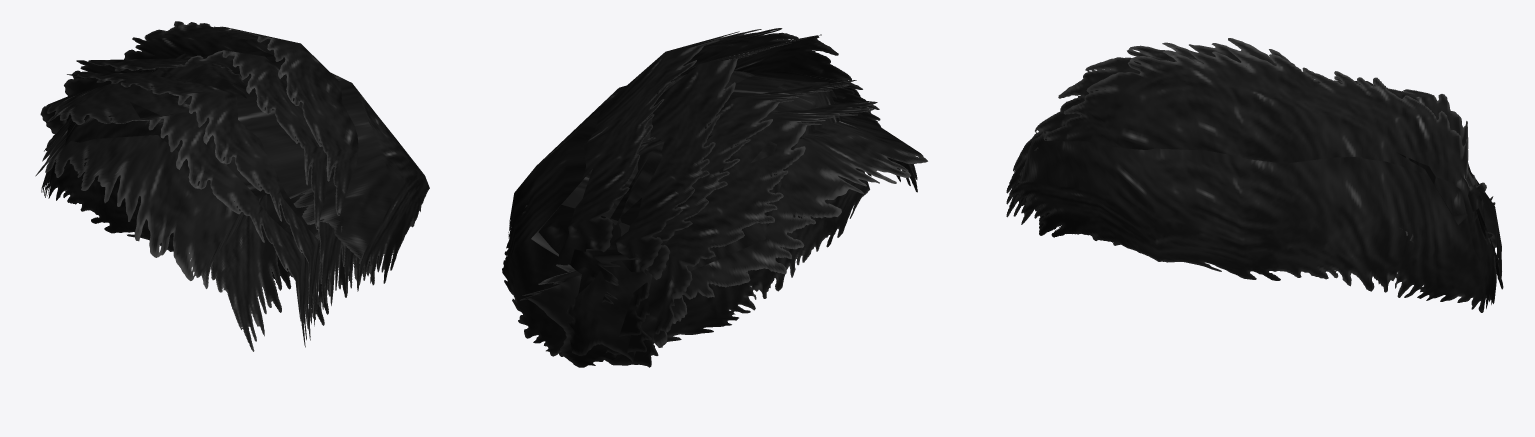
The model's file is hair_006.fbx.
The picture shows the model from 3 angles, left to right: view 1: azimuth 30°, elevation 25°; view 2: azimuth 150°, elevation 25°; view 3: azimuth 270°, elevation 25°; orthographic projection. The views are drawn at different scales.
Visible parts, largest first — view 1: hair_006; view 2: hair_006; view 3: hair_006.
Part boxes in pixels (box(x1,y1,x2,y2)): hair_006: box(35, 21, 429, 351); hair_006: box(502, 28, 927, 367); hair_006: box(1006, 38, 1503, 312).
Size of the model in its own units: 18.81 by 16.86 by 25.04.
